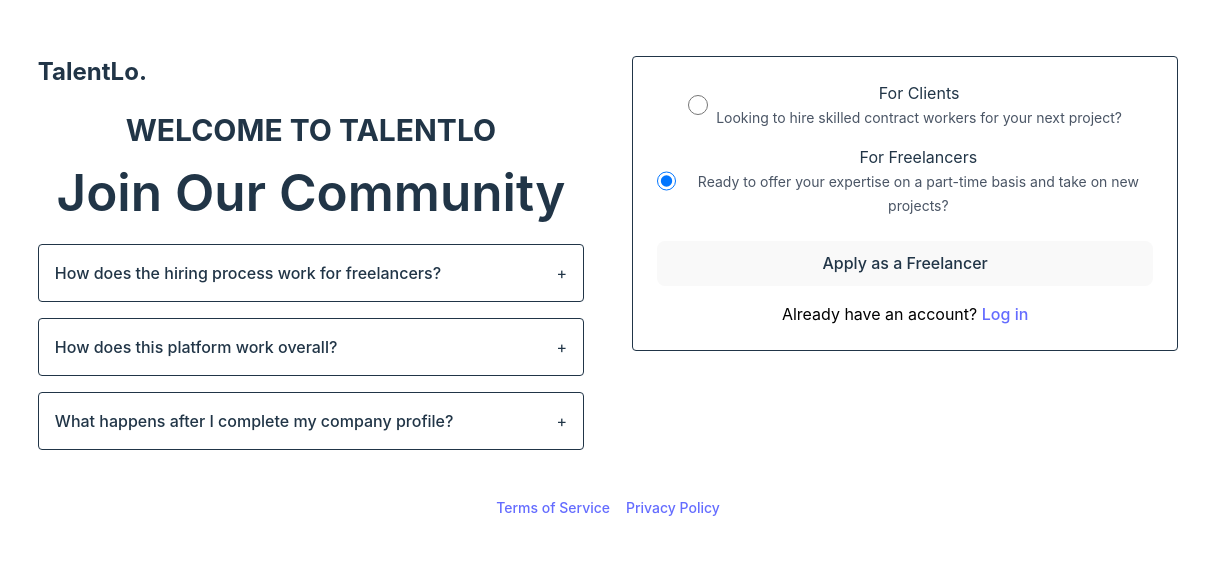
Test: Launching Component › toggles FAQ answer visibility when clicked
The image size is (1217, 573).
Expected: the text "Once your profile is set up" is not shown
// Simulate a click to toggle the FAQ
Click the text "How does the hiring process work for freelancers?".
click(248, 273)  # box [55,261,441,285]
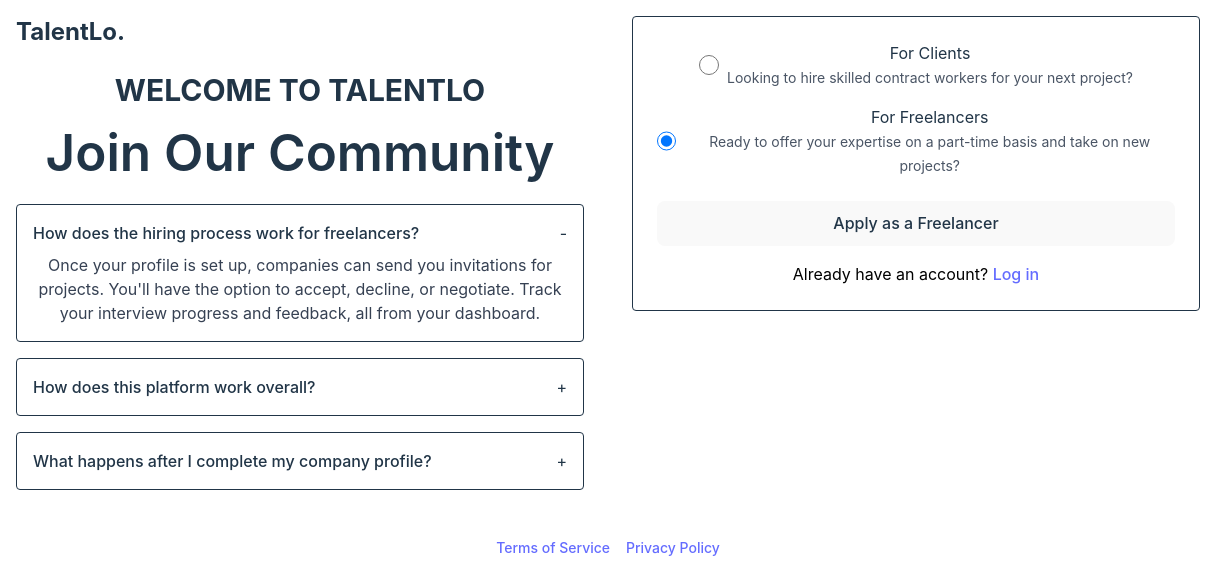
Now the text "Once your profile is set up" is shown, box [38,255,562,323]
// Simulate another click to close the FAQ
Click the text "How does the hiring process work for freelancers?".
click(226, 233)  # box [33,221,419,245]
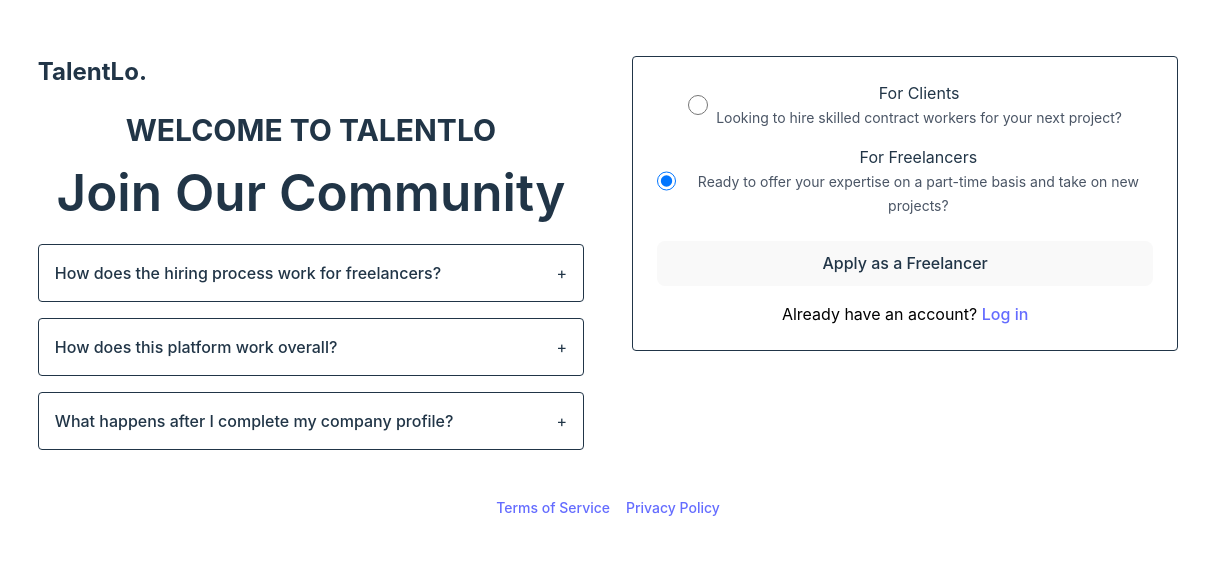
Now the text "Once your profile is set up" is gone
